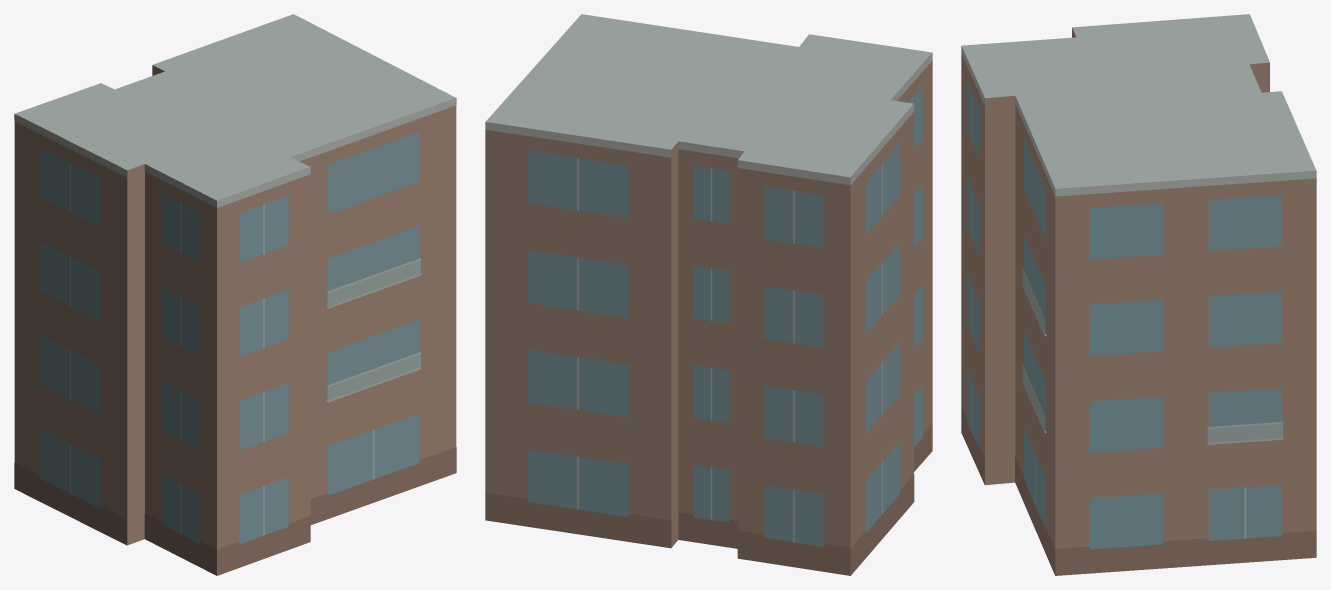
The model's file is survey-upis-32701794.glb.
The picture shows the model from 3 angles, left to right: view 1: azimuth 30°, elevation 25°; view 2: azimuth 150°, elevation 25°; view 3: azimuth 270°, elevation 25°; orthographic projection. The views are drawn at different scales.
Parts seen in each view (by area): view 1: survey-upis-32701794.tmp; view 2: survey-upis-32701794.tmp; view 3: survey-upis-32701794.tmp.
Boxes of the visible parts, x1=… form: survey-upis-32701794.tmp: x1=14, y1=14, x2=456, y2=575; survey-upis-32701794.tmp: x1=485, y1=14, x2=932, y2=575; survey-upis-32701794.tmp: x1=961, y1=14, x2=1316, y2=575.
Size of the model in its own units: 12.03 by 12.4 by 10.33.
